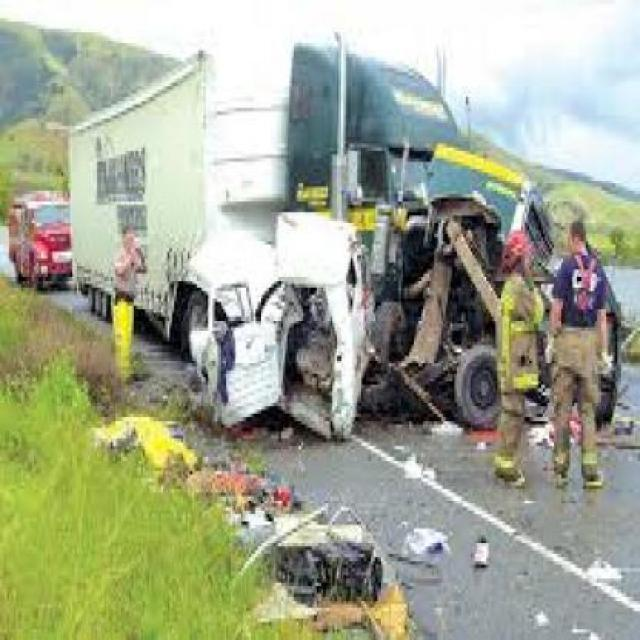accident: (160, 51, 557, 478)
